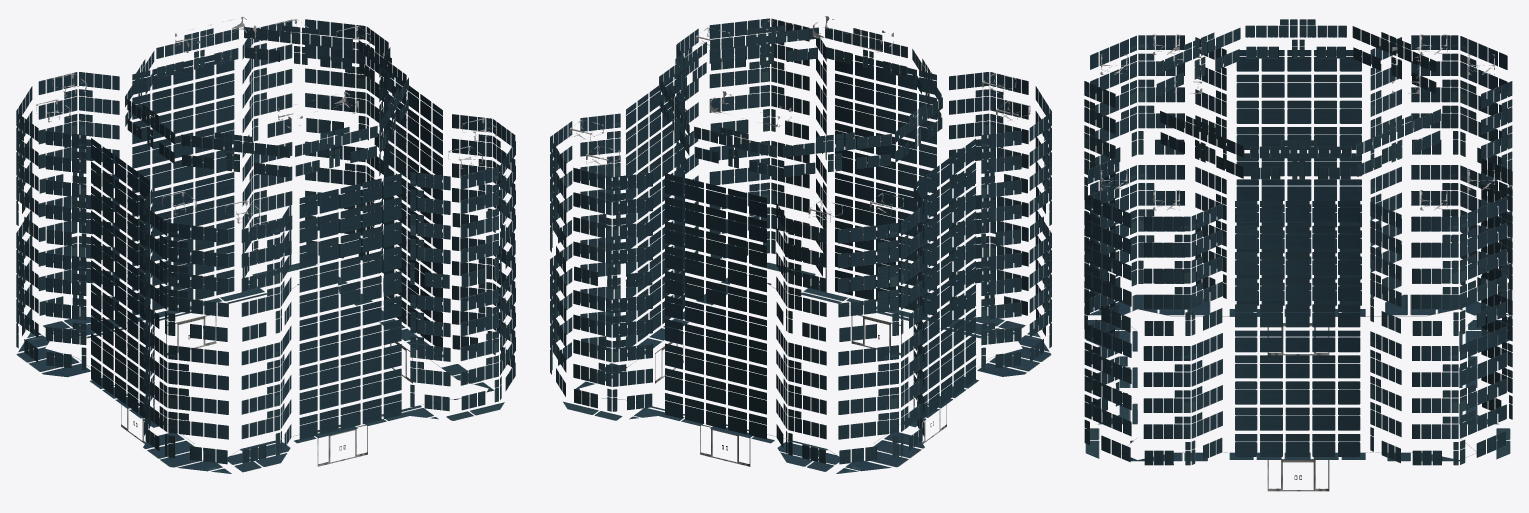
The model's file is si_building_14.fbx.
3 views of the same model, side by side, from view 1: azimuth 30°, elevation 25°; view 2: azimuth 150°, elevation 25°; view 3: azimuth 270°, elevation 25° (orthographic). The views are drawn at different scales.
Visible parts, largest first — view 1: si_building_14; view 2: si_building_14; view 3: si_building_14.
Boxes of the visible parts, x1,y1,x2,y2 form: si_building_14: (16,16,515,473); si_building_14: (550,16,1051,473); si_building_14: (1084,19,1512,491).
Size of the model in its own units: 121 by 111 by 121.
1 material, 1 textured.
